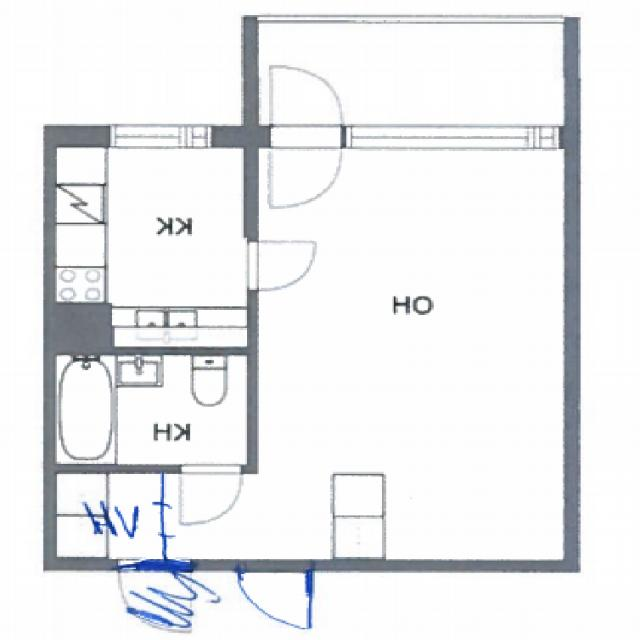door: (271, 65, 343, 147), (271, 126, 343, 208), (238, 559, 312, 632), (181, 465, 243, 525), (249, 242, 315, 290)
